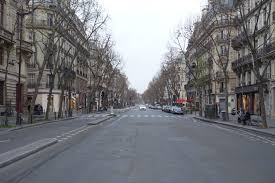strada: (1, 124, 275, 181)
striscie pedonali: (115, 114, 179, 118)
